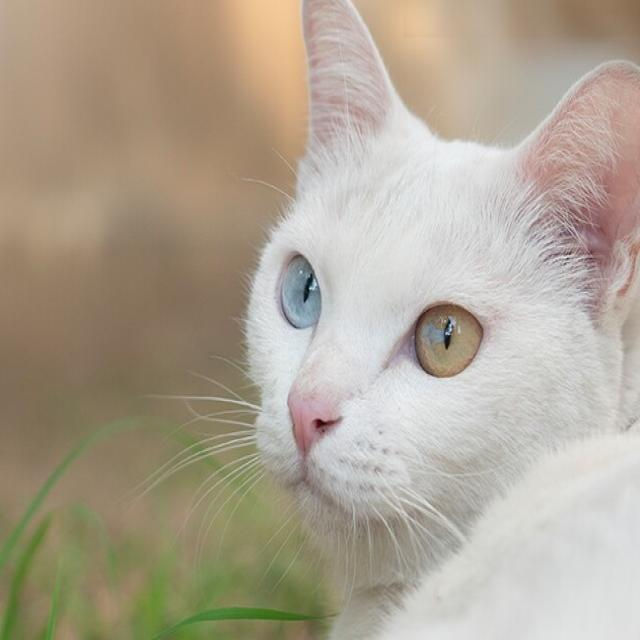Khao Manee: (240, 0, 640, 640)
